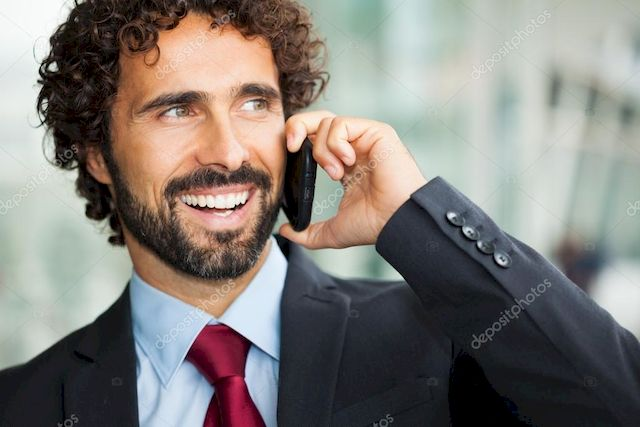phone: (278, 125, 324, 237)
talk: (110, 78, 386, 269)
